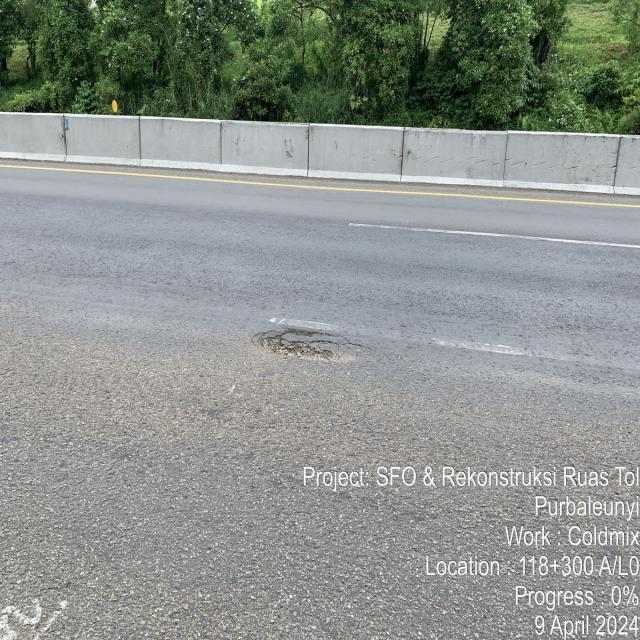Buraco: (248, 326, 362, 366)
